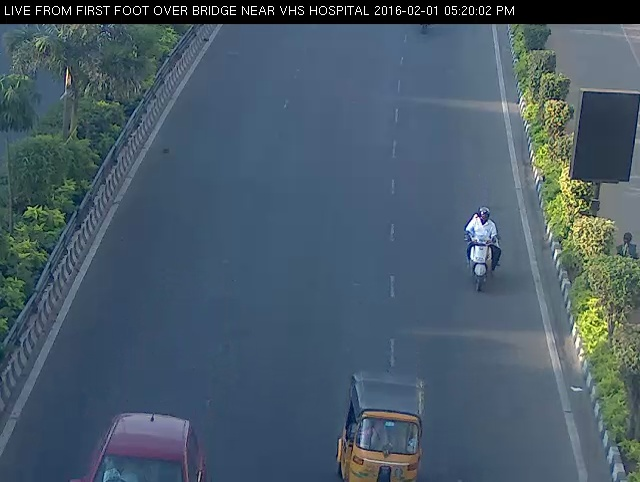Auto: (327, 360, 438, 482)
Car: (51, 404, 225, 481)
Person: (455, 200, 506, 292)
